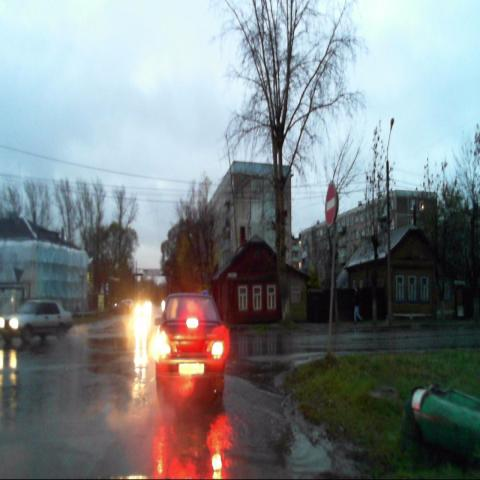3_1: (325, 179, 338, 227)
